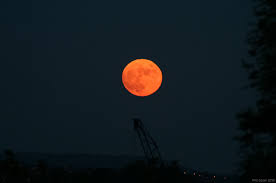moon: (119, 56, 163, 97)
